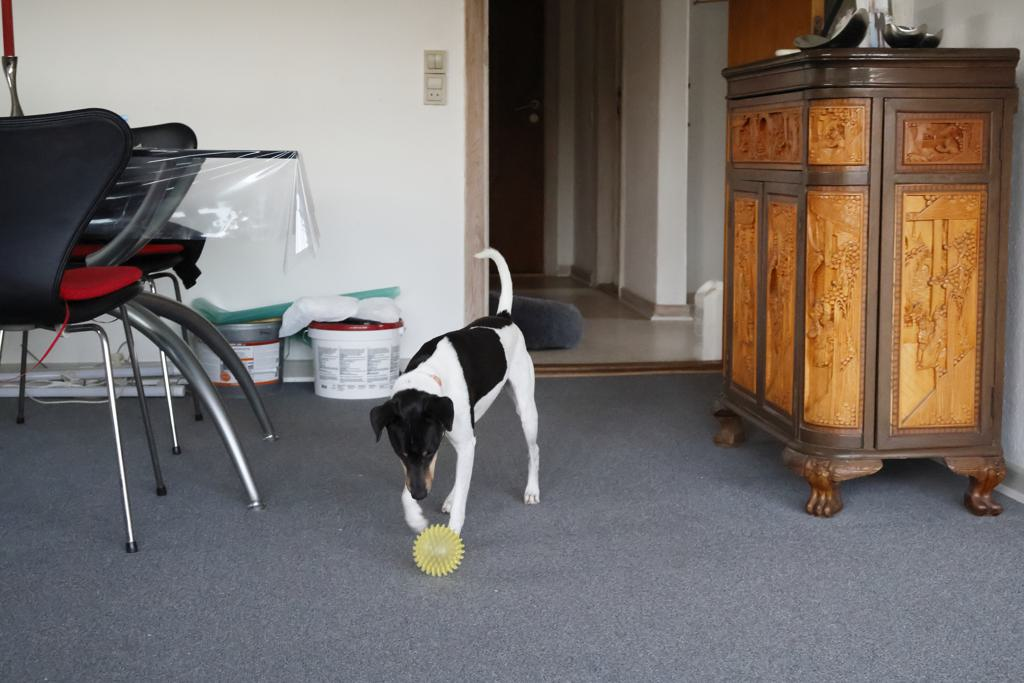Dog: (365, 237, 549, 548)
